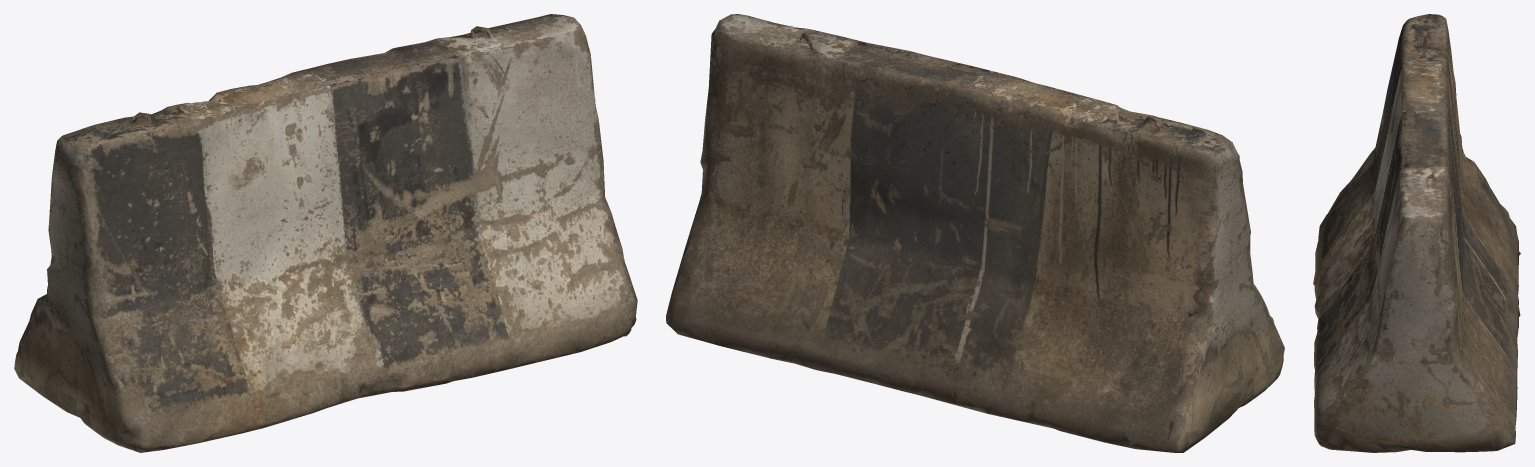
Rendered from barrier.glb.
3 renders of one model, left to right at view 1: azimuth 30°, elevation 25°; view 2: azimuth 150°, elevation 25°; view 3: azimuth 270°, elevation 25°, orthographic. The views are drawn at different scales.
Visible parts, largest first — view 1: concrete_road_barrier; view 2: concrete_road_barrier; view 3: concrete_road_barrier.
Boxes of the visible parts, bbox=[...] form: concrete_road_barrier: bbox=[14, 14, 637, 452]; concrete_road_barrier: bbox=[666, 14, 1284, 452]; concrete_road_barrier: bbox=[1313, 14, 1520, 452].
Size of the model in its own units: 1.54 by 0.8273 by 0.6387.
1 material, 1 textured.
